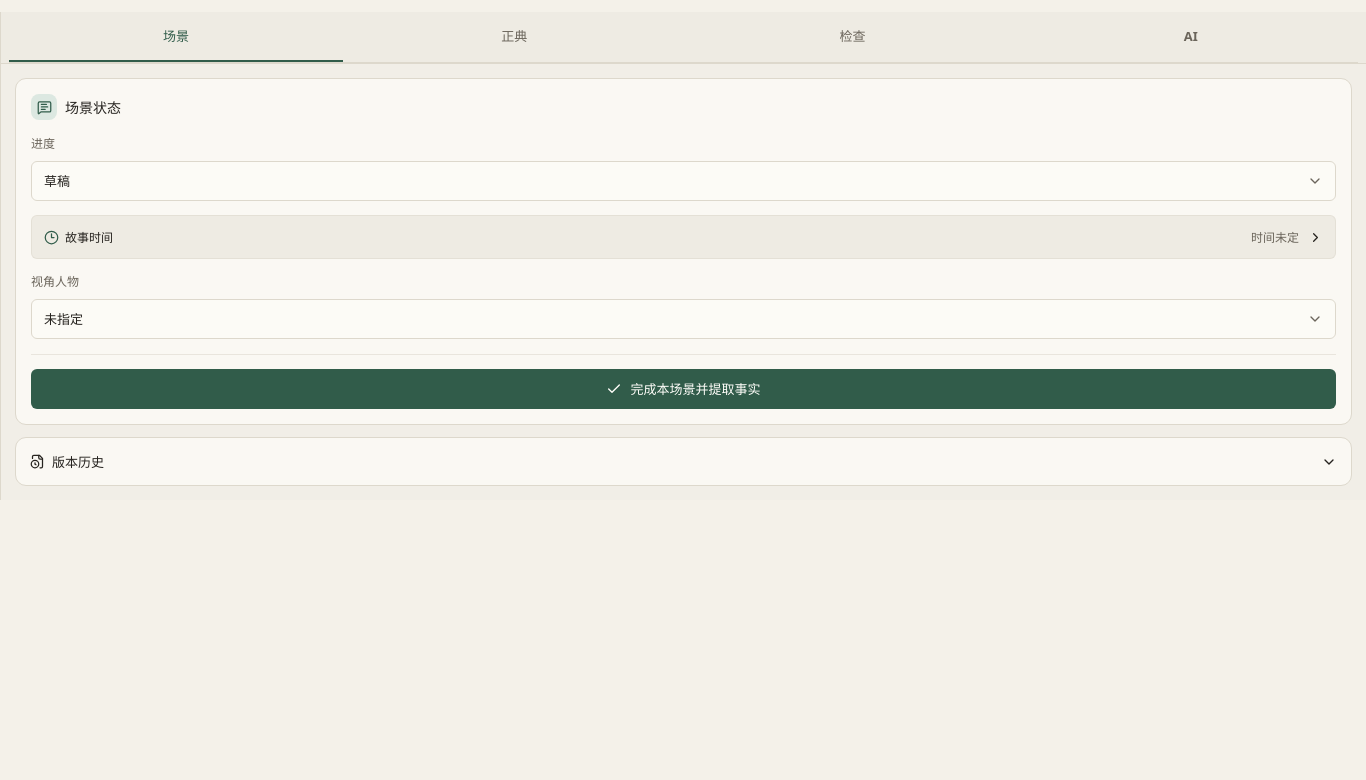
Test: Inspector knowledge panel › projects a deleted POV reference as unassigned without clearing the stored id
Expected: the dropdown named "视角人物" reads "未指定", x1=31 y1=299 x2=1336 y2=339
Click the tab "正典" at (514, 37), box x1=347 y1=12 x2=682 y2=62
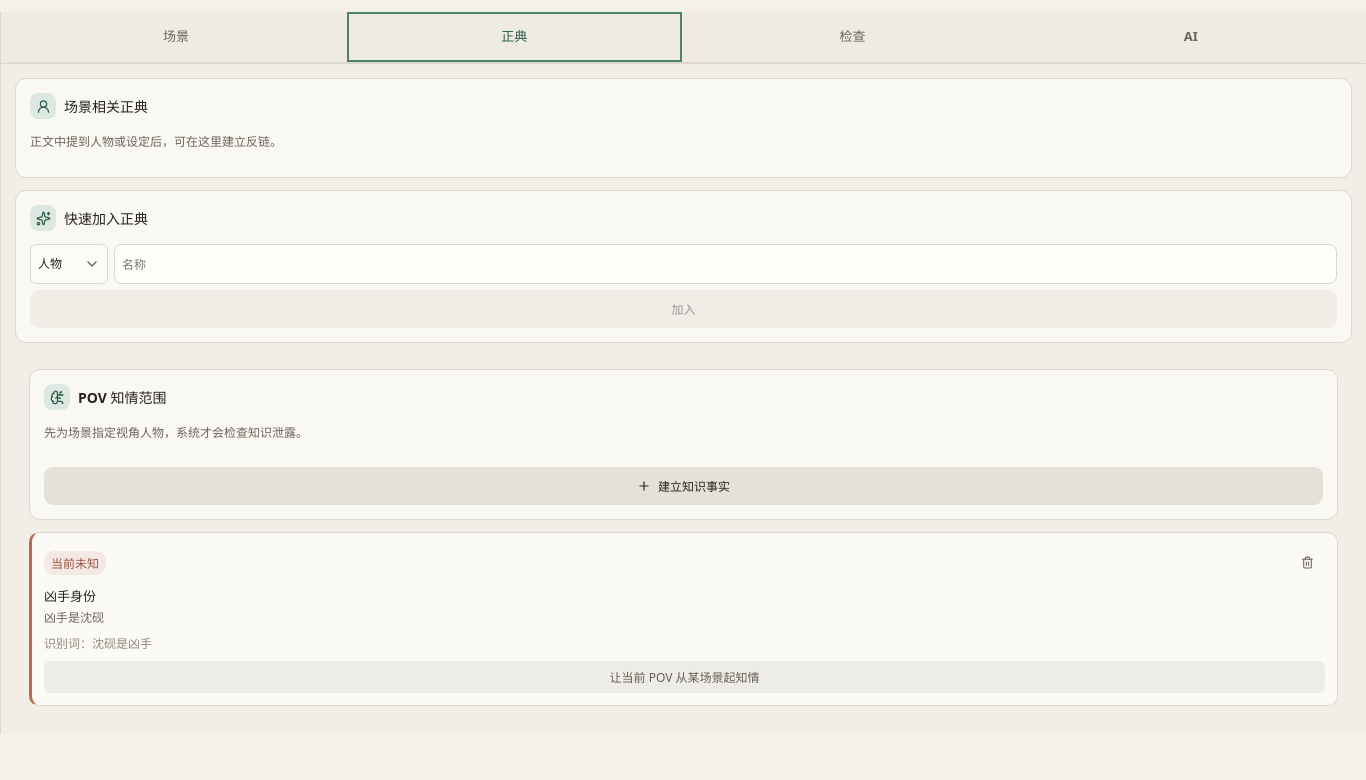
Result: the text "先为场景指定视角人物，系统才会检查知识泄露。" is shown at x1=44 y1=424 x2=308 y2=441
